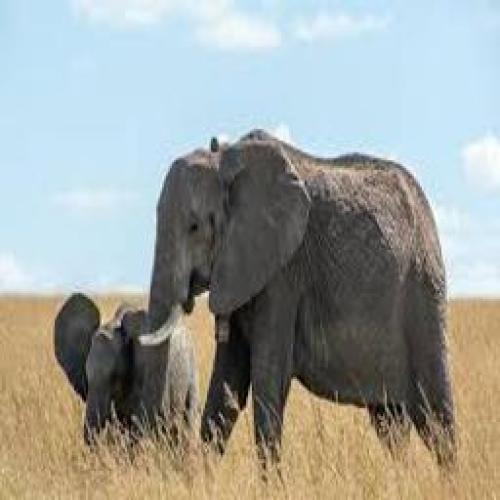african_elephant-endangered: (144, 134, 455, 467), (59, 289, 194, 435)
